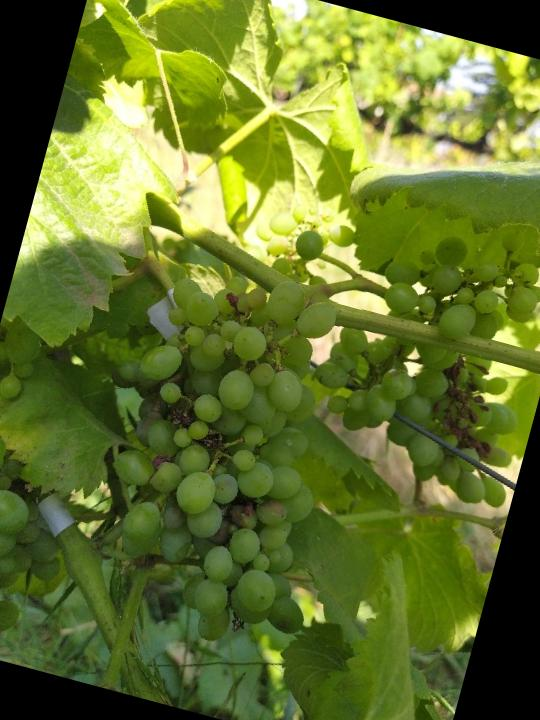grape: (48, 240, 389, 667), (291, 186, 540, 513)
